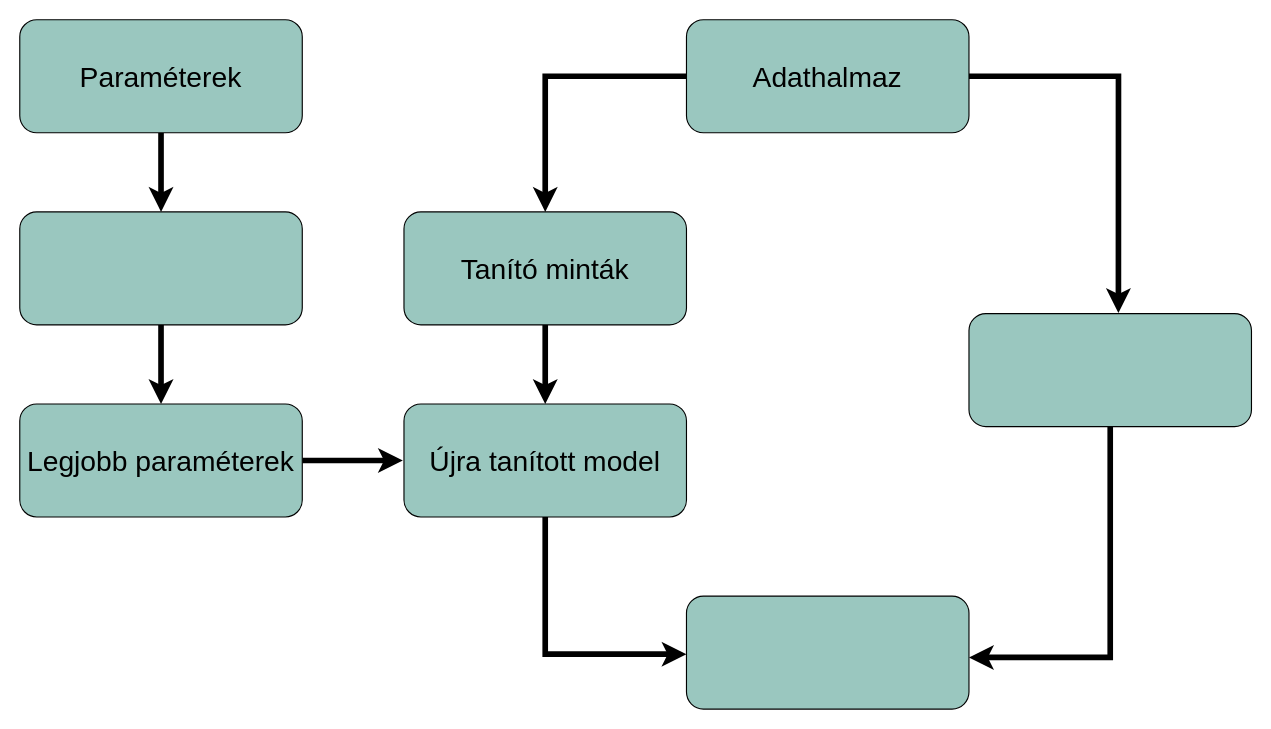
This 1271x729 diagram has some shape labels left out. Here are the shapes that lost their labels. From the top down, the centre of each, then its label:
point (160, 268): Kereszt-validáció
point (1109, 369): Ellenörző minták
point (827, 652): Végső kiértékelés
